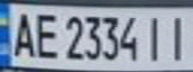2: (60, 11, 84, 61)
3: (81, 11, 103, 61), (100, 12, 121, 62)
4: (118, 12, 142, 62)
A: (6, 8, 39, 60)
E: (30, 9, 60, 61)
I: (139, 11, 169, 63), (163, 11, 193, 62)
